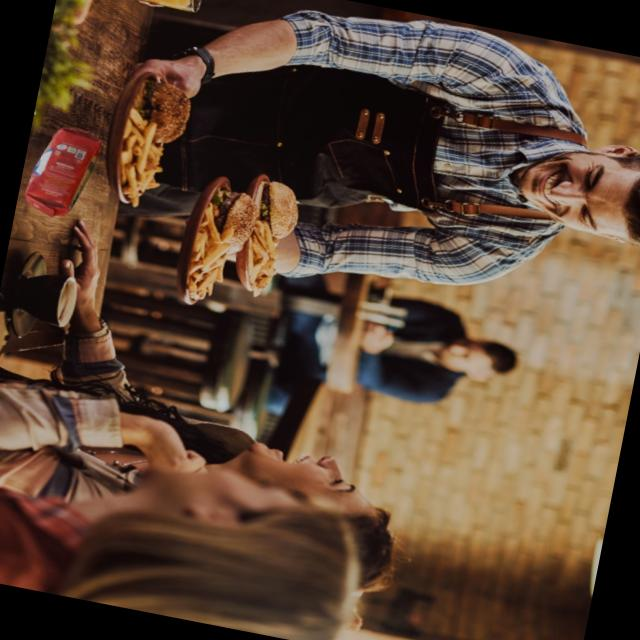mate bag: (22, 120, 108, 226)
